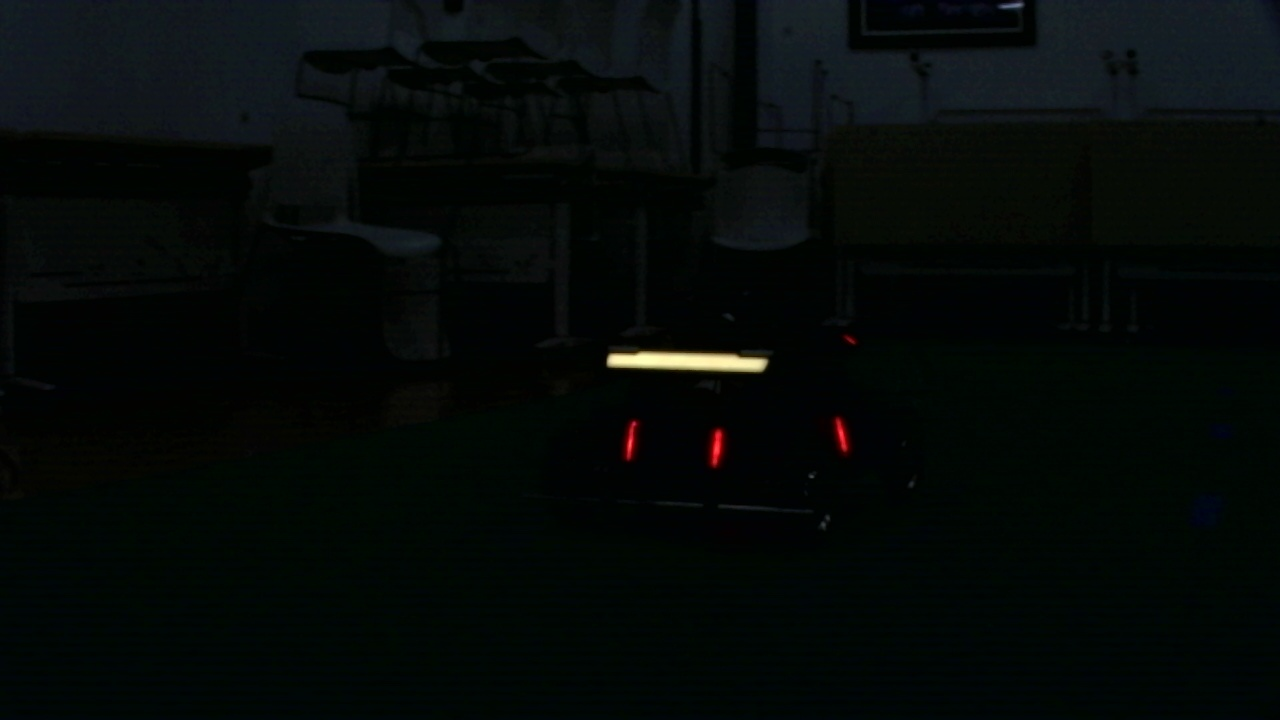lamp: (622, 419, 640, 462), (833, 415, 851, 451), (709, 423, 723, 464)
pair1: (621, 416, 725, 463)
